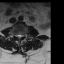CCS_normal: (18, 32, 20, 41)
LFS_stenosis: (22, 32, 24, 38)
LLS_normal: (20, 32, 22, 40)
RFS_stenosis: (14, 32, 16, 39)
RLS_normal: (16, 33, 18, 39)
